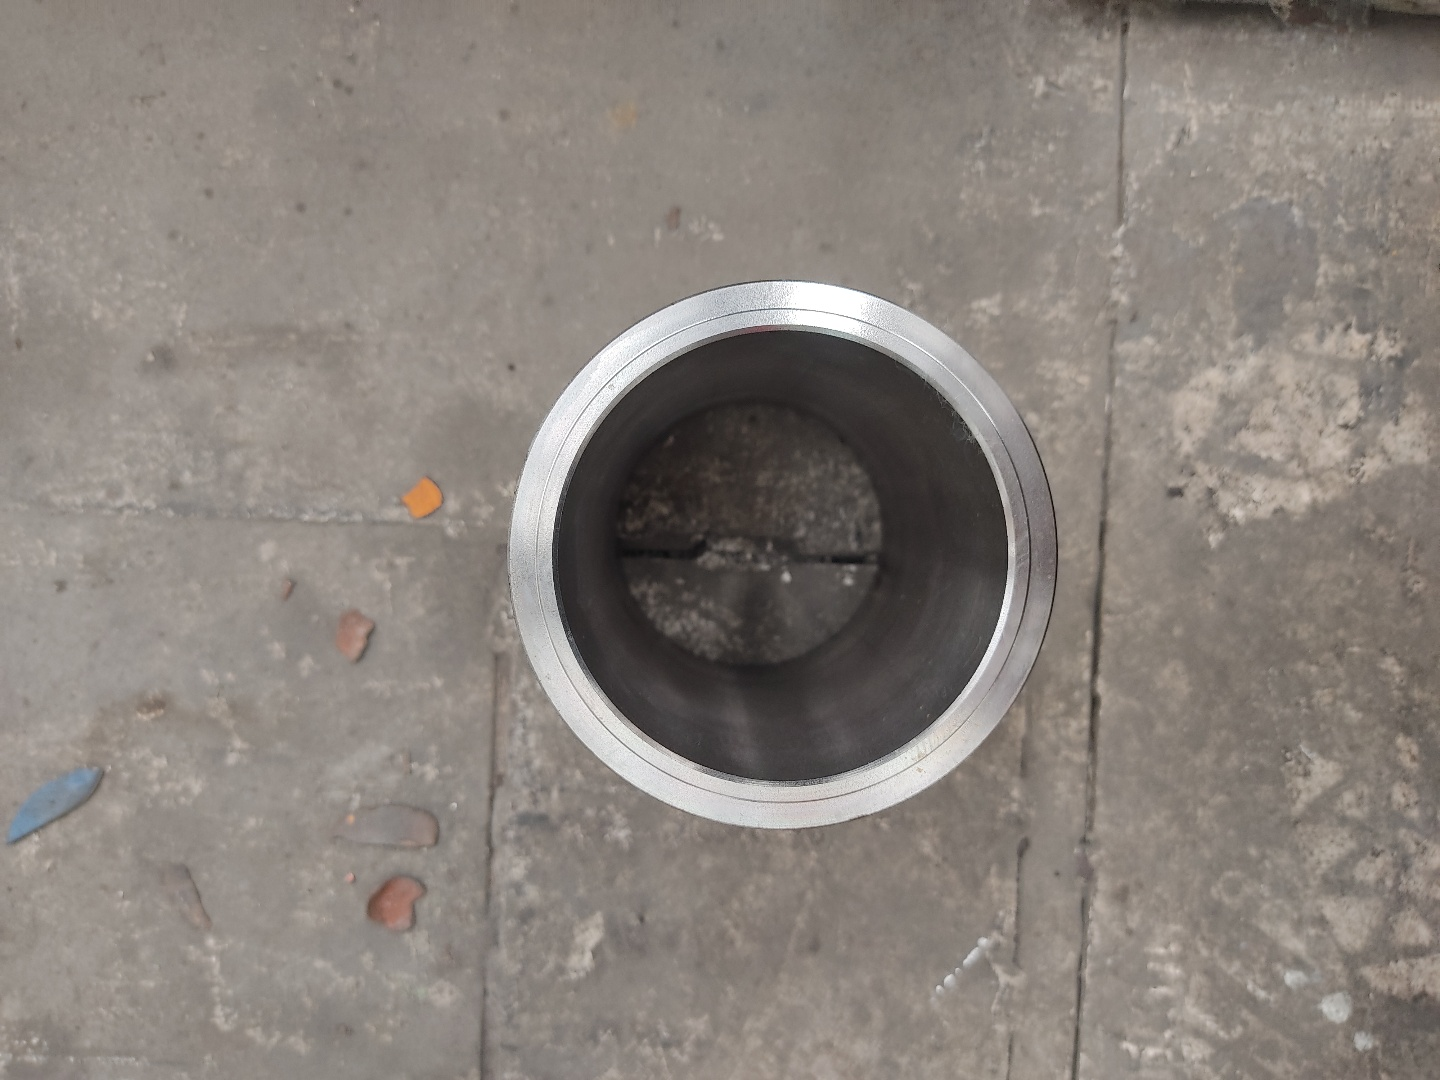cylinder: (503, 275, 1065, 837)
